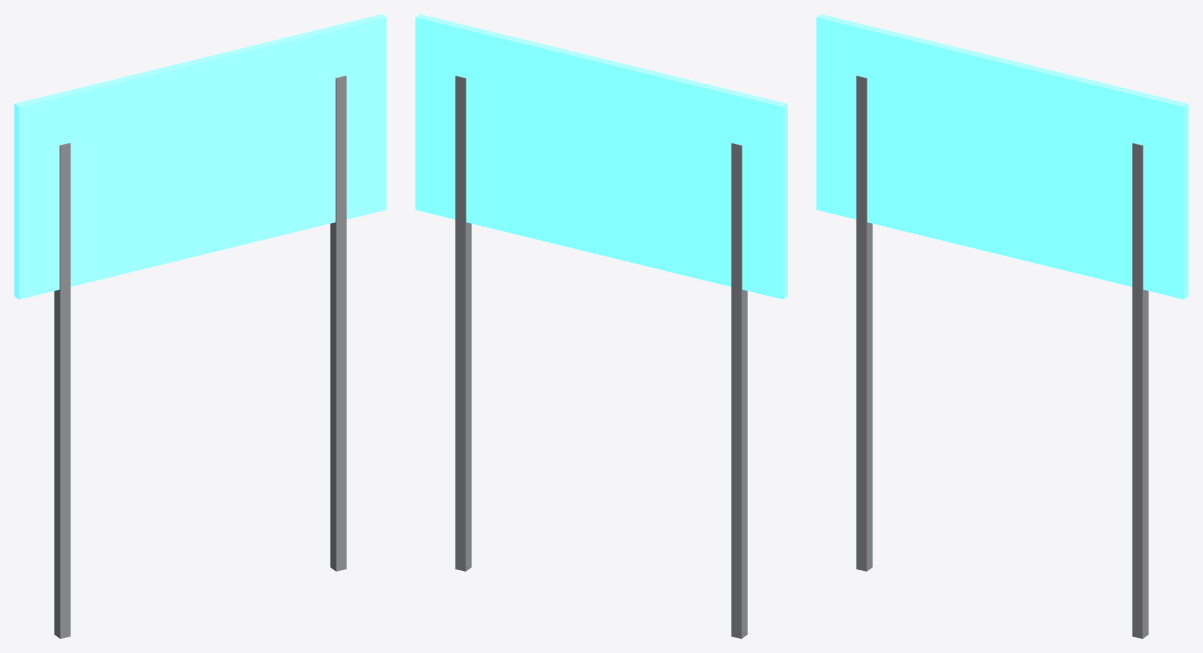
The model's file is billboard_02.glb.
3 views of the same model, side by side, from view 1: azimuth 30°, elevation 25°; view 2: azimuth 150°, elevation 25°; view 3: azimuth 330°, elevation 25° (orthographic).
Parts seen in each view (by area): view 1: Board.001, PostR.001, PostL.001; view 2: Board.001, PostR.001, PostL.001; view 3: Board.001, PostL.001, PostR.001.
Boxes of the visible parts, box(x1,y1,x2,y2) form: Board.001: box(14, 14, 386, 299); PostR.001: box(330, 75, 346, 571); PostL.001: box(54, 143, 70, 638); Board.001: box(415, 14, 787, 299); PostR.001: box(455, 75, 471, 571); PostL.001: box(731, 143, 747, 638); Board.001: box(816, 14, 1188, 299); PostL.001: box(856, 75, 872, 571); PostR.001: box(1132, 143, 1148, 638).
Bounding box in the file's own units: 6.4 × 9 × 0.18.
